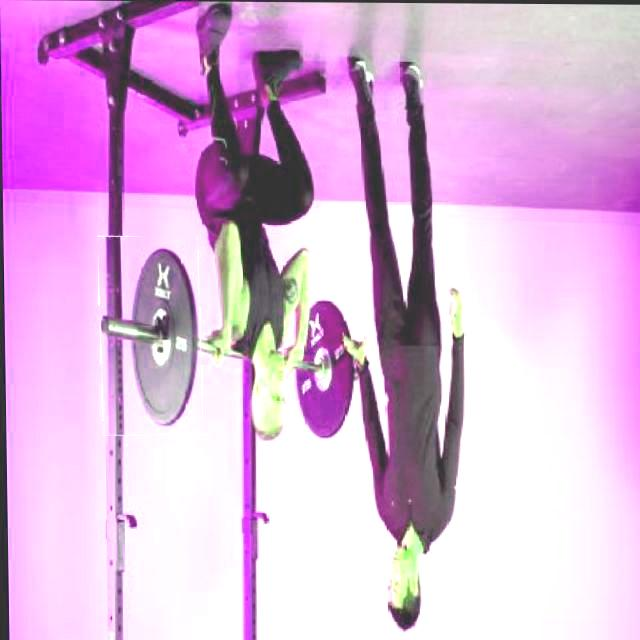barbell: (98, 236, 202, 435)
